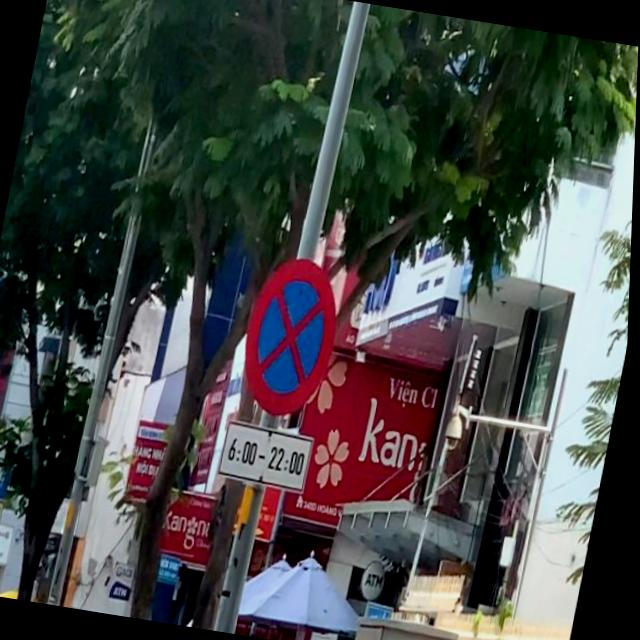Cam do xe: (0, 502, 7, 564)
Cam dung xe va do xe: (233, 248, 354, 426)
